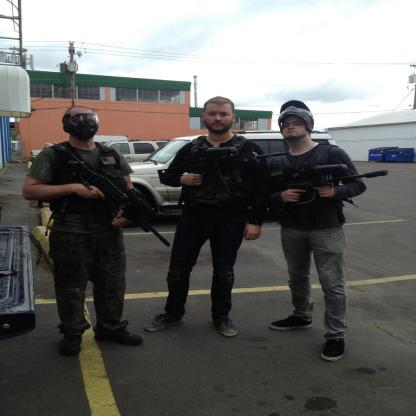Car: (119, 131, 340, 231), (105, 141, 172, 164)
